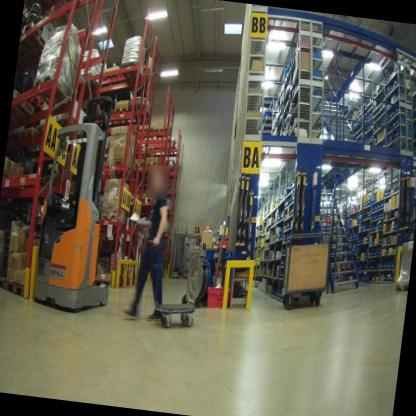forklift: (29, 83, 134, 314)
pallet: (29, 65, 75, 113), (30, 116, 72, 155), (7, 118, 44, 157), (17, 19, 50, 58), (12, 86, 39, 120), (3, 271, 32, 300), (117, 57, 145, 87), (99, 65, 127, 93), (103, 157, 135, 180), (128, 100, 152, 126), (111, 103, 134, 127), (143, 159, 166, 180), (142, 63, 158, 89), (135, 127, 158, 144), (80, 72, 99, 89), (150, 127, 169, 144), (24, 0, 45, 15), (393, 275, 408, 295), (30, 0, 62, 9), (52, 0, 83, 9), (0, 270, 10, 296), (132, 161, 147, 176), (139, 195, 156, 204)
small_load_carrier: (202, 280, 233, 316)
